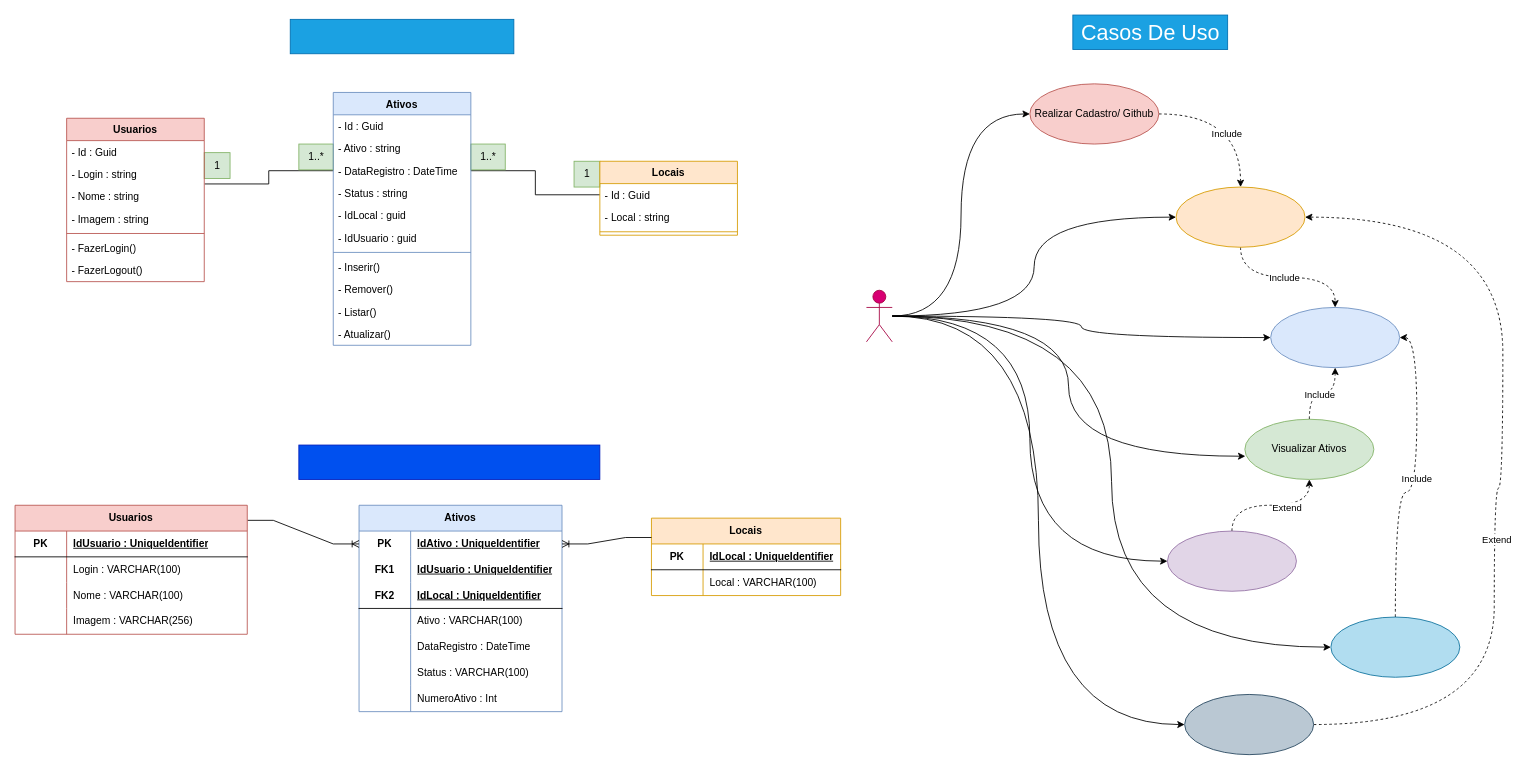
Image size: 1526x770. Some labels were removed from this diagram. The shapes that lost their labels are listed below. From the top down, each one's centre as x and y in pixels, then its label:
[401,36]: Diagrama de Classes
[1240,216]: Fazer Login
[1335,337]: Cadastrar ativos
[449,461]: Modelagem Banco de Dados
[1231,560]: Editar Ativos
[1395,646]: Alterar Status
[1249,724]: Logout
